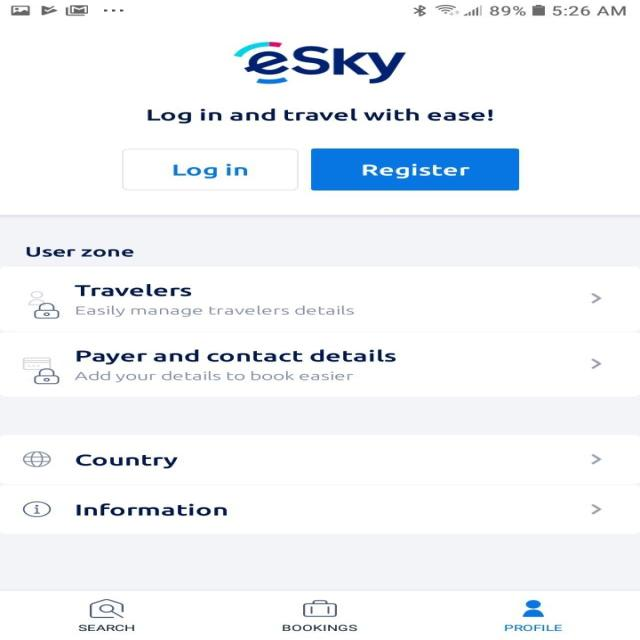Icon: (23, 357, 61, 384), (28, 291, 61, 319), (88, 598, 125, 618), (301, 599, 337, 617), (22, 500, 52, 517), (521, 599, 544, 617), (589, 292, 602, 304), (589, 358, 602, 369), (590, 453, 602, 464), (590, 504, 602, 514)
Image: (232, 41, 406, 85), (22, 450, 52, 467)
Text: (146, 108, 492, 124), (76, 348, 396, 365), (75, 304, 354, 317), (74, 370, 354, 382), (76, 502, 228, 516), (74, 283, 192, 296), (74, 454, 178, 468), (26, 247, 134, 257), (282, 624, 358, 632), (503, 624, 562, 632), (77, 624, 135, 632)
TextButton: (310, 148, 519, 191), (122, 148, 298, 191)
